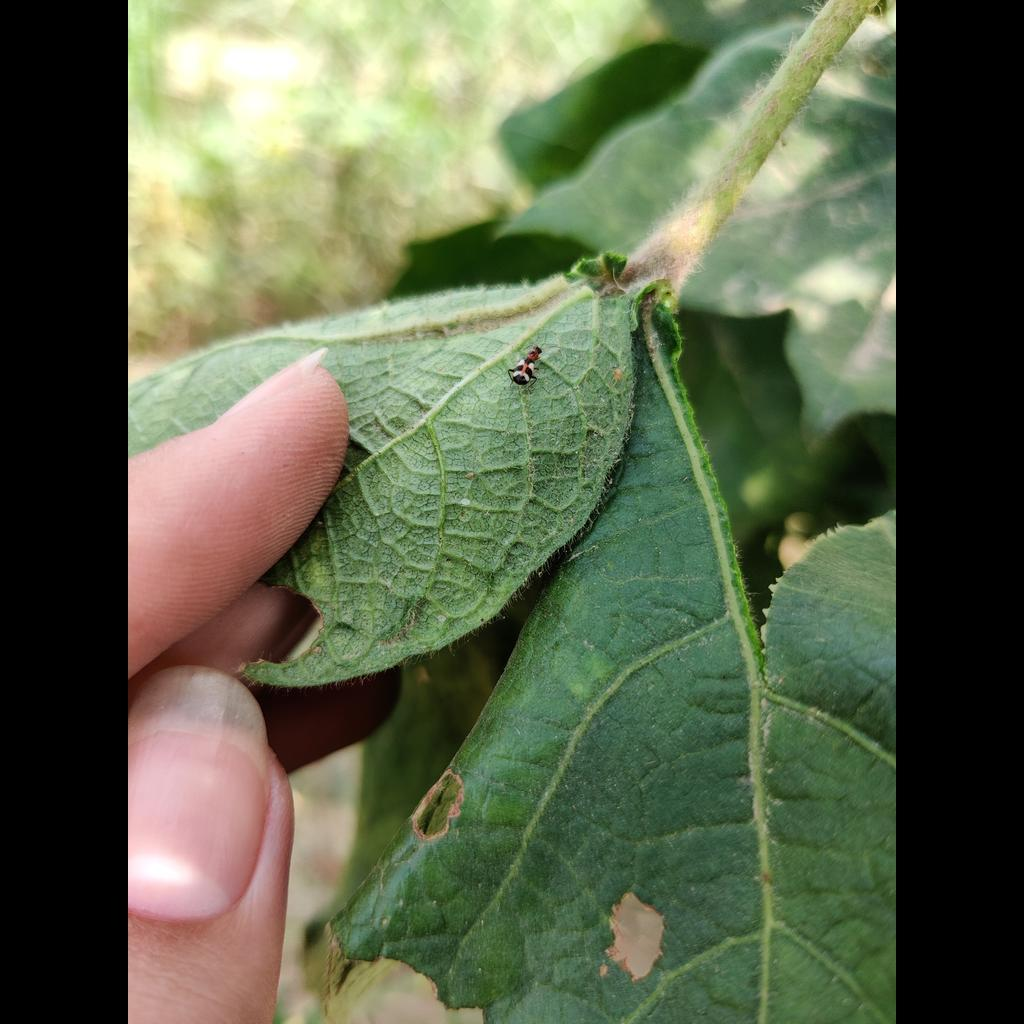nymph: (465, 471, 475, 480), (461, 498, 470, 505), (439, 614, 446, 622)
